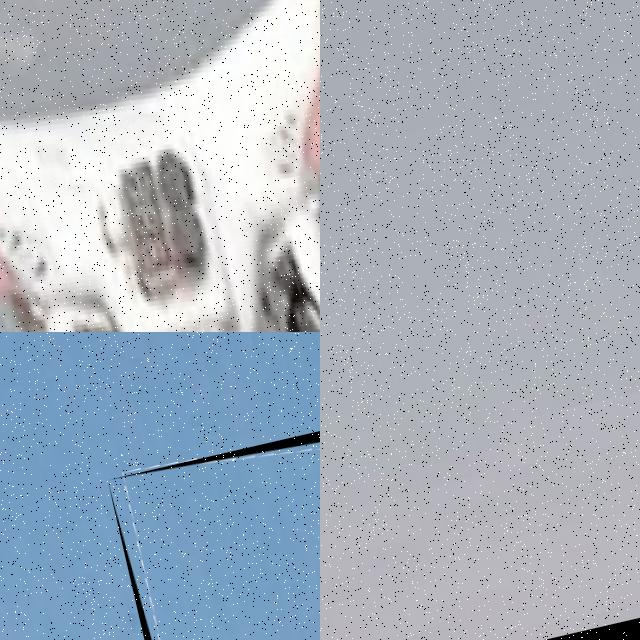drone: (0, 0, 320, 332), (107, 398, 320, 640)
